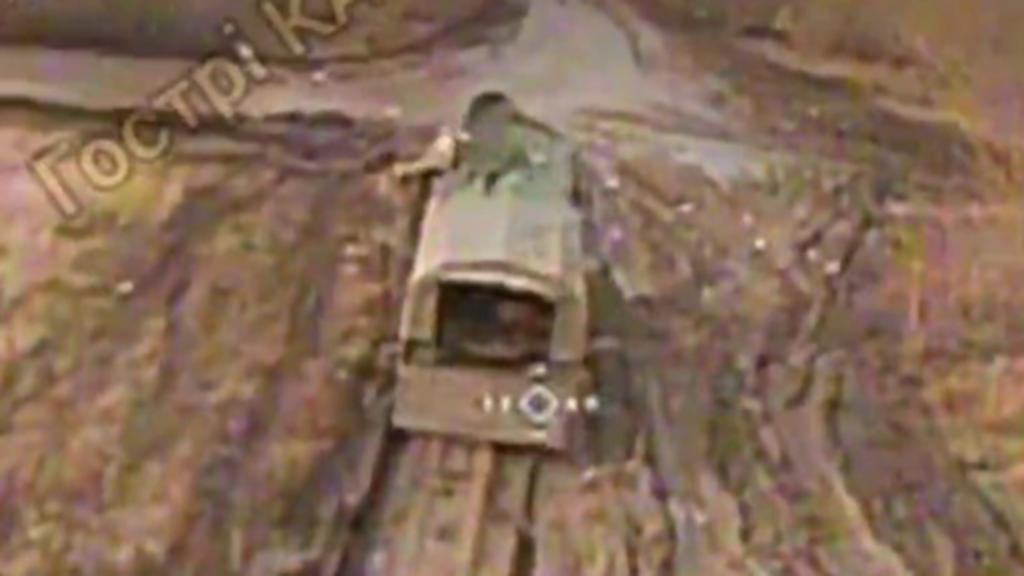TRUCK: (380, 98, 596, 454)
